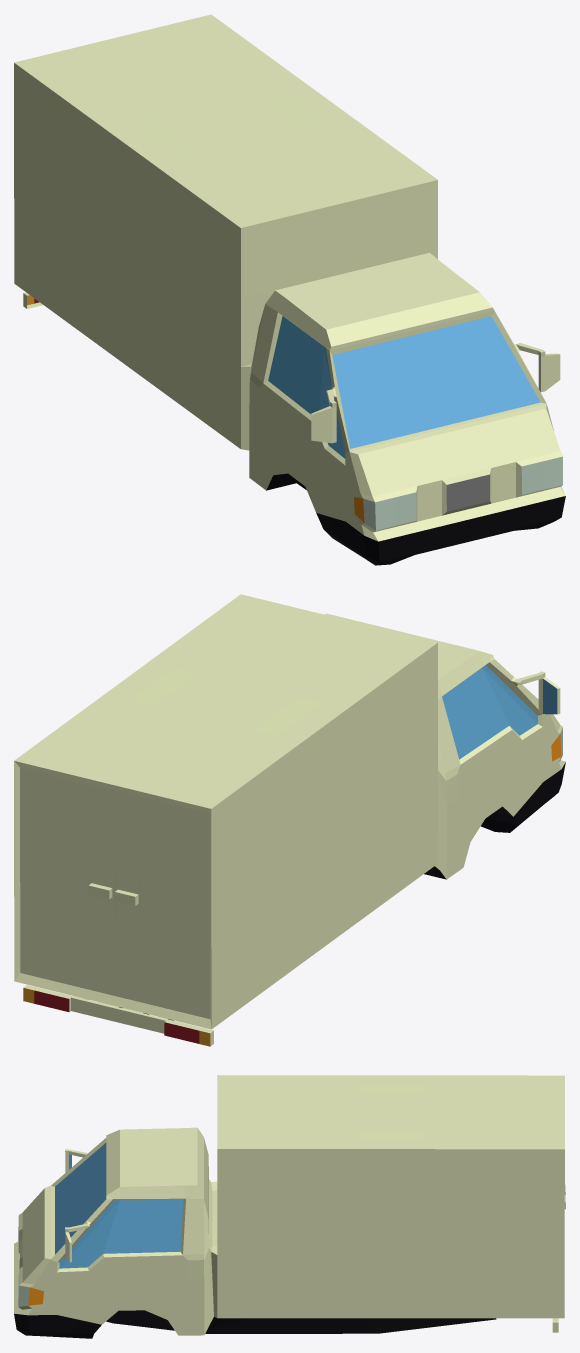
The model's file is Porter.fbx.
The picture shows the model from 3 angles, top to bottom: view 1: azimuth 30°, elevation 25°; view 2: azimuth 150°, elevation 25°; view 3: azimuth 270°, elevation 25°; orthographic projection. The views are drawn at different scales.
Parts seen in each view (by area): view 1: Corpse, Porter; view 2: Corpse, Porter; view 3: Corpse, Porter.
Boxes of the visible parts, box(x1,y1,x2,y2) form: Corpse: box(14, 14, 565, 541); Porter: box(27, 295, 565, 565); Corpse: box(14, 594, 565, 1046); Porter: box(23, 665, 565, 1046); Corpse: box(14, 1075, 565, 1335); Porter: box(14, 1143, 496, 1338).
Bounding box in the file's own units: 1.92 × 1.99 × 4.81.
